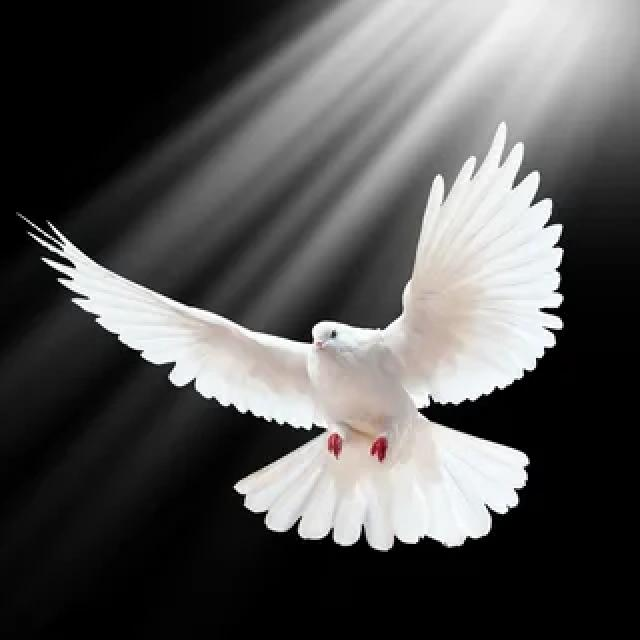pigeon: (18, 117, 579, 560)
